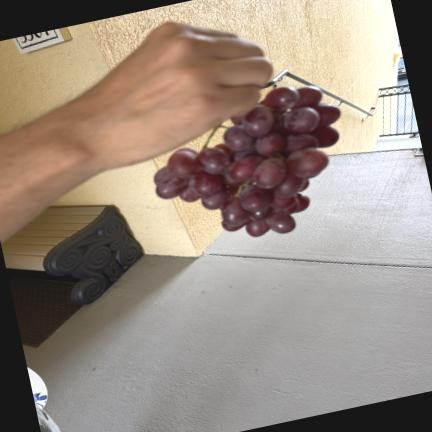grape_cluster: (155, 87, 340, 236)
